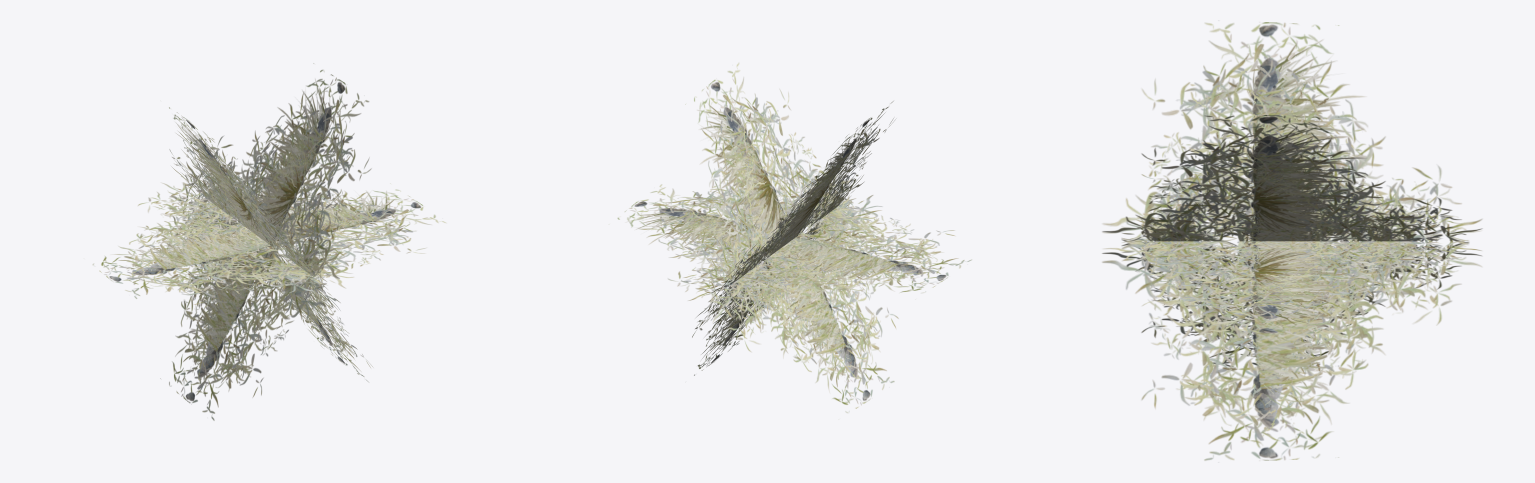
The model's file is GrassCard_Dry_Med.glb.
3 views of the same model, side by side, from view 1: azimuth 30°, elevation 25°; view 2: azimuth 150°, elevation 25°; view 3: azimuth 270°, elevation 25° (orthographic). The views are drawn at different scales.
Parts seen in each view (by area): view 1: GrassCard_Dry_Med; view 2: GrassCard_Dry_Med; view 3: GrassCard_Dry_Med.
Part boxes in pixels (box(x1,y1,x2,y2)): GrassCard_Dry_Med: box(92, 63, 446, 420); GrassCard_Dry_Med: box(617, 62, 971, 419); GrassCard_Dry_Med: box(1102, 22, 1482, 460).
Size of the model in its own units: 0.25 by 0.2165 by 0.25.
Materials: 1 (1 with a texture image).
